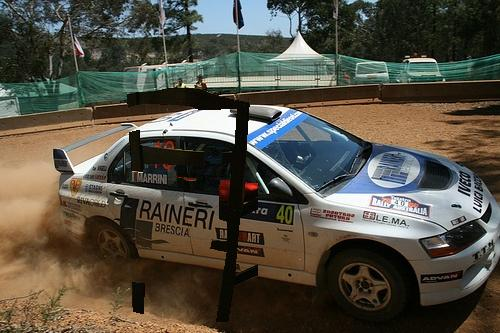tampered: (128, 89, 258, 322)
